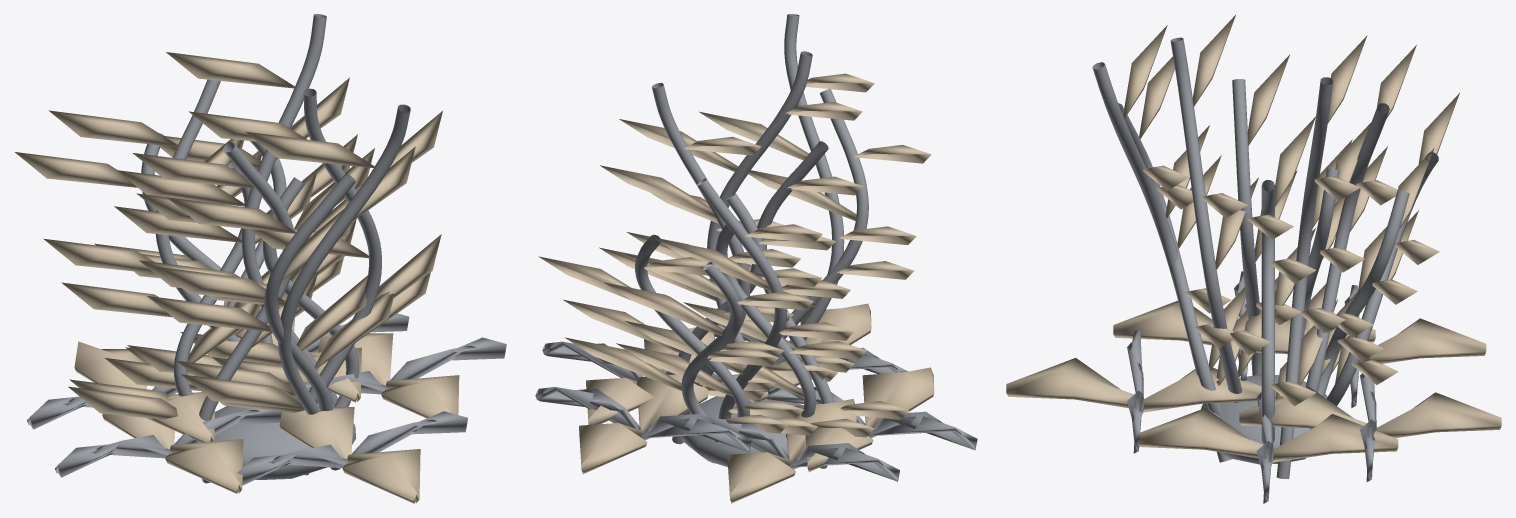
The model's file is bio_aquatic_frond_20_far.glb.
The picture shows the model from 3 angles, left to right: view 1: azimuth 30°, elevation 25°; view 2: azimuth 150°, elevation 25°; view 3: azimuth 270°, elevation 25°; orthographic projection. The views are drawn at different scales.
Visible parts, largest first — view 1: Ruffled aquatic blade.010, Ruffled aquatic blade.035, Ruffled aquatic blade.040, Ruffled aquatic blade.045, Ruffled aquatic blade.025, Ruffled aquatic blade.020, Ruffled aquatic blade.005, Low buttress leaf.009, Flexible stipe.002, Low buttress leaf.017, Low buttress leaf.001, Low buttress leaf.008 (+19 smaller); view 2: Ruffled aquatic blade.030, Ruffled aquatic blade.005, Ruffled aquatic blade.015, Low buttress leaf.013, Ruffled aquatic blade.020, Ruffled aquatic blade.010, Low buttress leaf.017, Ruffled aquatic blade.045, Low buttress leaf.012, Low buttress leaf.005, Ruffled aquatic blade.040, Ruffled aquatic blade.025 (+19 smaller); view 3: Low buttress leaf.001, Low buttress leaf.009, Low buttress leaf.013, Flexible stipe.005, Flexible stipe.008, Ruffled aquatic blade.025, Ruffled aquatic blade.040, Low buttress leaf.005, Ruffled aquatic blade.010, Ruffled aquatic blade.035, Flexible stipe.004, Flexible stipe.002 (+17 smaller).
Boxes of the visible parts, <box> form: Ruffled aquatic blade.010: <box>156,131,415,410</box>; Ruffled aquatic blade.035: <box>147,197,394,412</box>; Ruffled aquatic blade.040: <box>114,52,356,367</box>; Ruffled aquatic blade.045: <box>61,170,317,399</box>; Ruffled aquatic blade.025: <box>176,111,442,396</box>; Ruffled aquatic blade.020: <box>68,148,374,419</box>; Ruffled aquatic blade.005: <box>43,110,270,375</box>; Low buttress leaf.009: <box>279,407,420,503</box>; Flexible stipe.002: <box>278,104,410,470</box>; Low buttress leaf.017: <box>102,398,243,493</box>; Low buttress leaf.001: <box>318,333,459,418</box>; Low buttress leaf.008: <box>237,411,467,485</box>; Ruffled aquatic blade.030: <box>564,282,813,433</box>; Ruffled aquatic blade.005: <box>625,224,853,418</box>; Ruffled aquatic blade.015: <box>538,256,817,435</box>; Low buttress leaf.013: <box>579,374,708,474</box>; Ruffled aquatic blade.020: <box>651,176,908,419</box>; Ruffled aquatic blade.010: <box>699,73,916,372</box>; Low buttress leaf.017: <box>805,367,934,472</box>; Ruffled aquatic blade.045: <box>625,249,874,437</box>; Low buttress leaf.012: <box>535,387,751,452</box>; Low buttress leaf.005: <box>727,399,856,503</box>; Ruffled aquatic blade.040: <box>600,136,822,392</box>; Ruffled aquatic blade.025: <box>599,102,862,380</box>; Low buttress leaf.001: <box>1139,408,1398,463</box>; Low buttress leaf.009: <box>1006,358,1261,412</box>; Low buttress leaf.013: <box>1239,386,1501,438</box>; Flexible stipe.005: <box>1170,37,1242,402</box>; Flexible stipe.008: <box>1276,77,1333,478</box>; Ruffled aquatic blade.025: <box>1192,15,1275,376</box>; Ruffled aquatic blade.040: <box>1298,35,1367,385</box>; Low buttress leaf.005: <box>1255,318,1486,363</box>; Ruffled aquatic blade.010: <box>1123,25,1245,370</box>; Ruffled aquatic blade.035: <box>1139,56,1259,385</box>; Flexible stipe.004: <box>1232,79,1261,375</box>; Flexible stipe.002: <box>1092,62,1231,462</box>.
Size of the model in its own units: 2.22 by 1.89 by 2.09.
